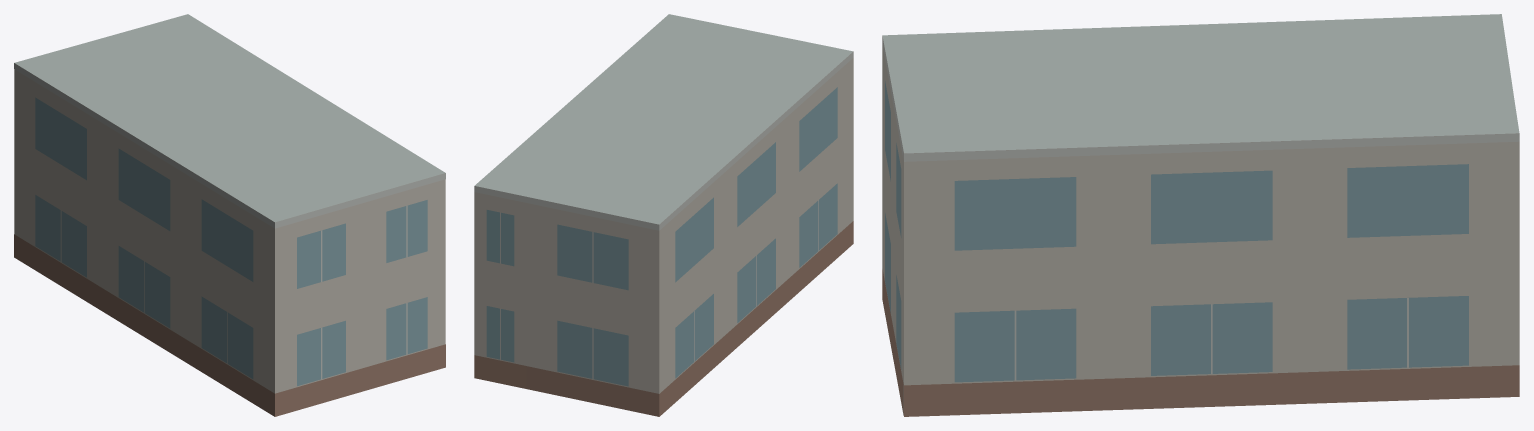
The model's file is survey-upis-32746507.glb.
The picture shows the model from 3 angles, left to right: view 1: azimuth 30°, elevation 25°; view 2: azimuth 150°, elevation 25°; view 3: azimuth 270°, elevation 25°; orthographic projection. The views are drawn at different scales.
Visible parts, largest first — view 1: survey-upis-32746507.tmp; view 2: survey-upis-32746507.tmp; view 3: survey-upis-32746507.tmp.
Boxes of the visible parts, left/top/right/bottom form: survey-upis-32746507.tmp: left=14, top=14, right=445, bottom=416; survey-upis-32746507.tmp: left=474, top=14, right=853, bottom=416; survey-upis-32746507.tmp: left=882, top=14, right=1519, bottom=416.
Size of the model in its own units: 8.64 by 7.6 by 16.67.
